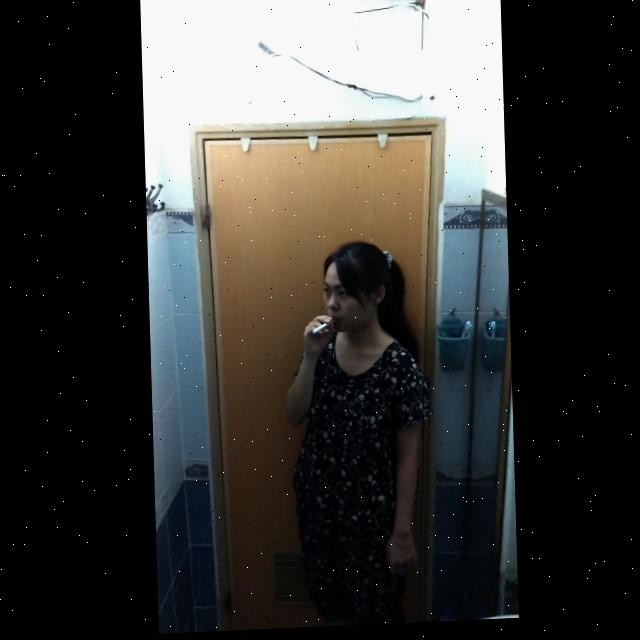cigarette: (309, 322, 333, 338)
